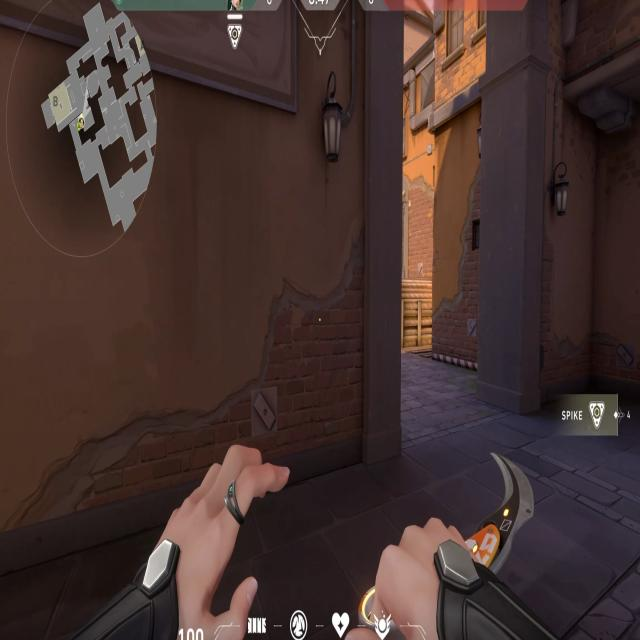B_Cubby: (402, 272, 442, 364)
